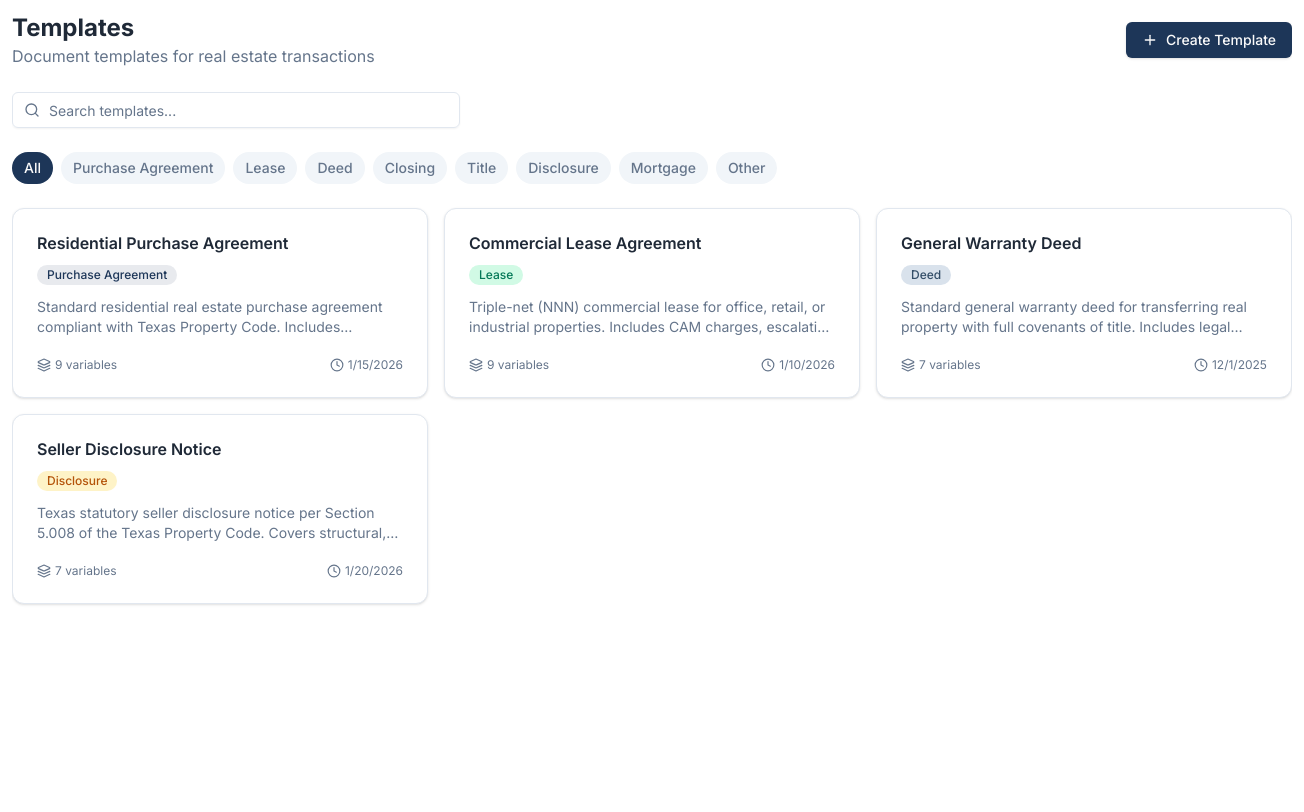
TemplatesPage › should filter templates by search query
Expected: the heading "Residential Purchase Agreement" is shown, [37, 233, 288, 253]
Type "warranty deed" into the search field with placeholder "Search templates...".
click(236, 110); type("warranty deed")  # box [12, 92, 460, 128]
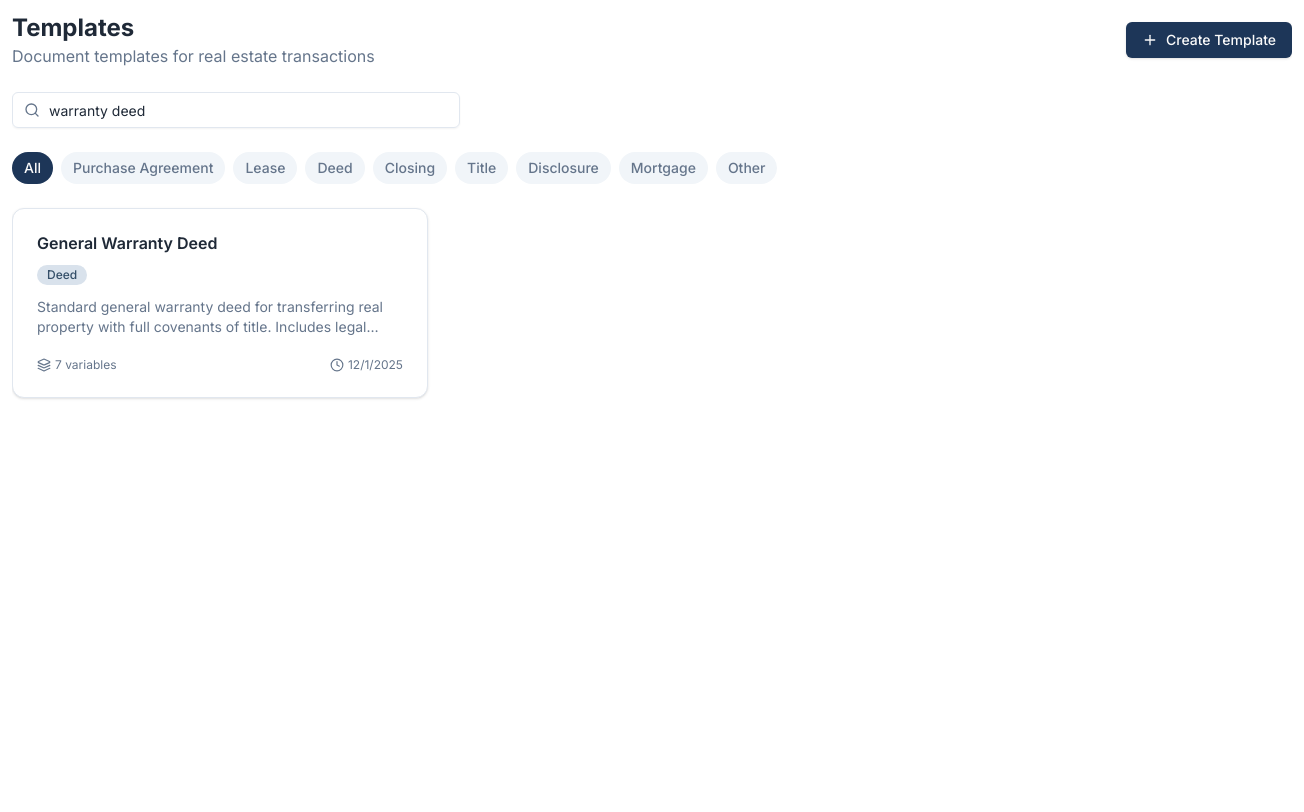
Expected: the heading "General Warranty Deed" is shown, [37, 233, 218, 253]
Result: the link "Residential Purchase Agreement" is gone
Result: the link "Commercial Lease Agreement" is gone
